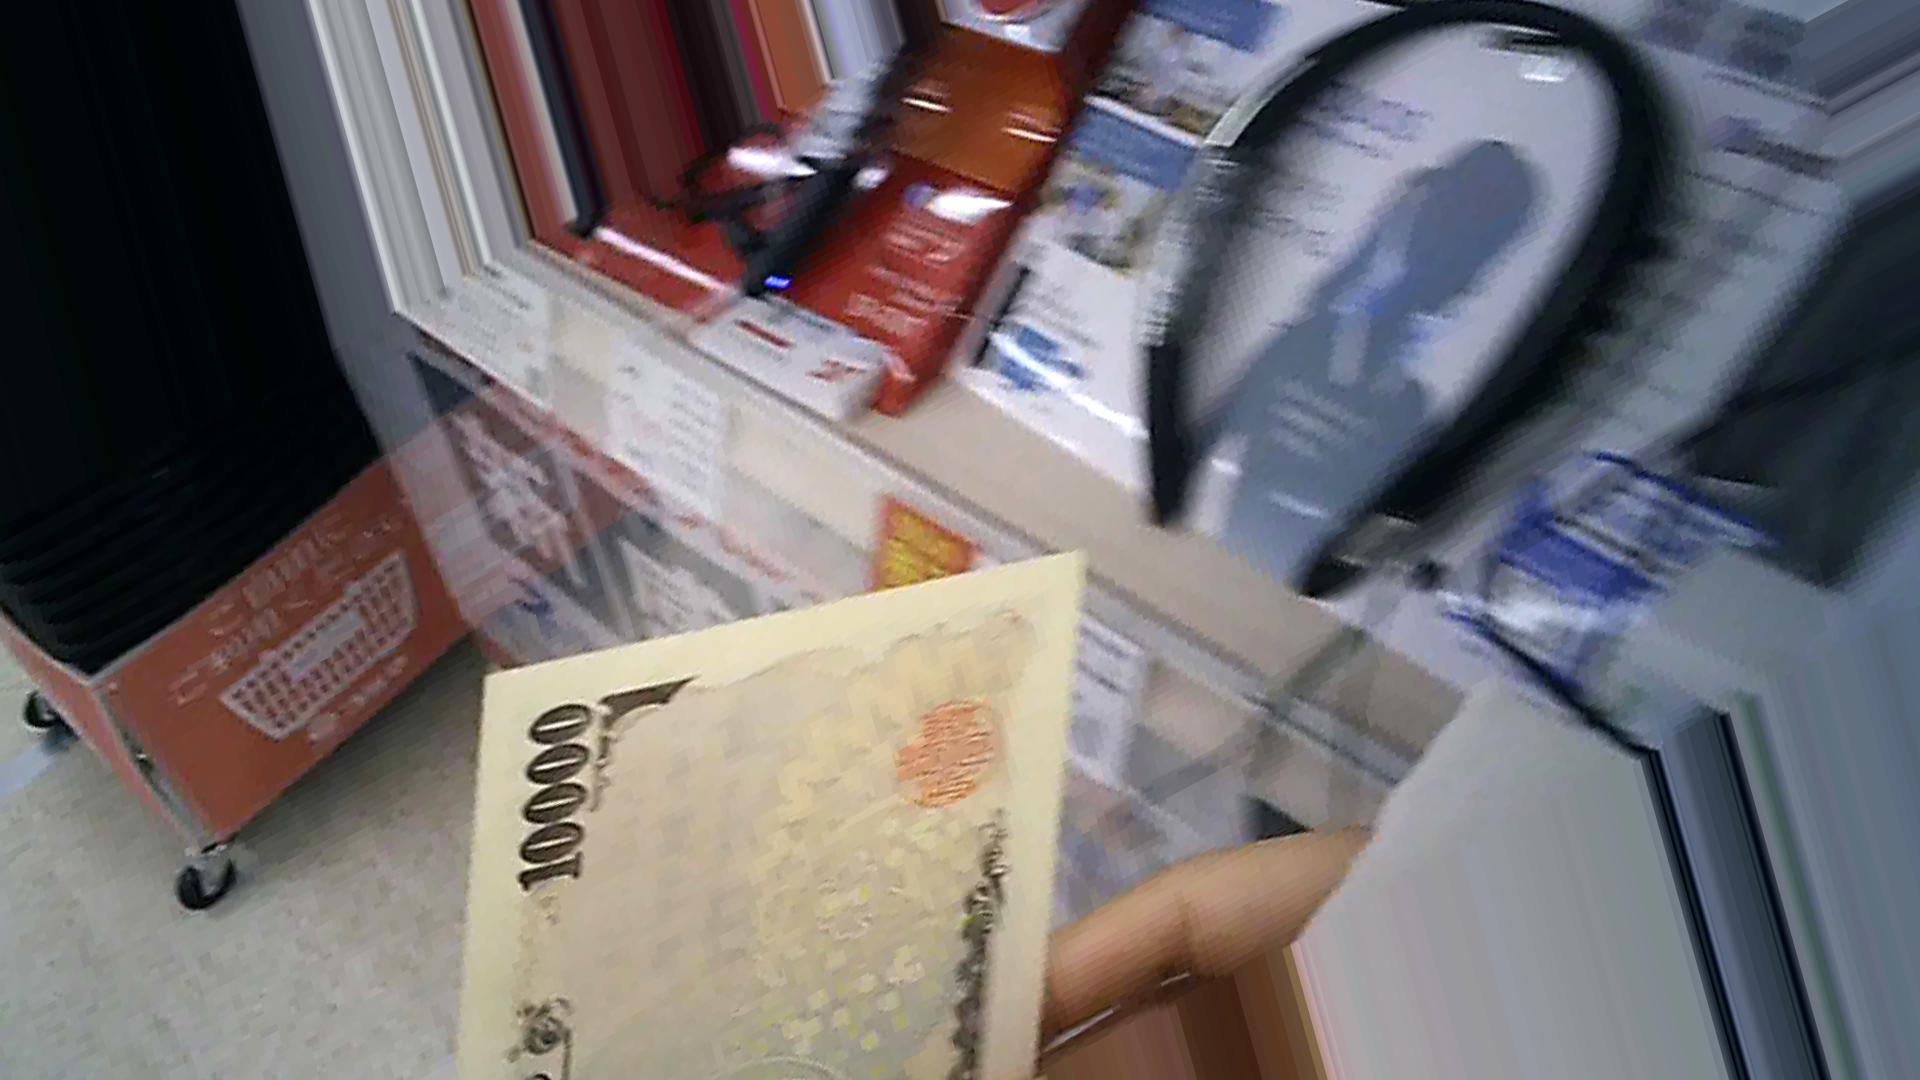10,000 Yen: (434, 566, 1058, 1079)
